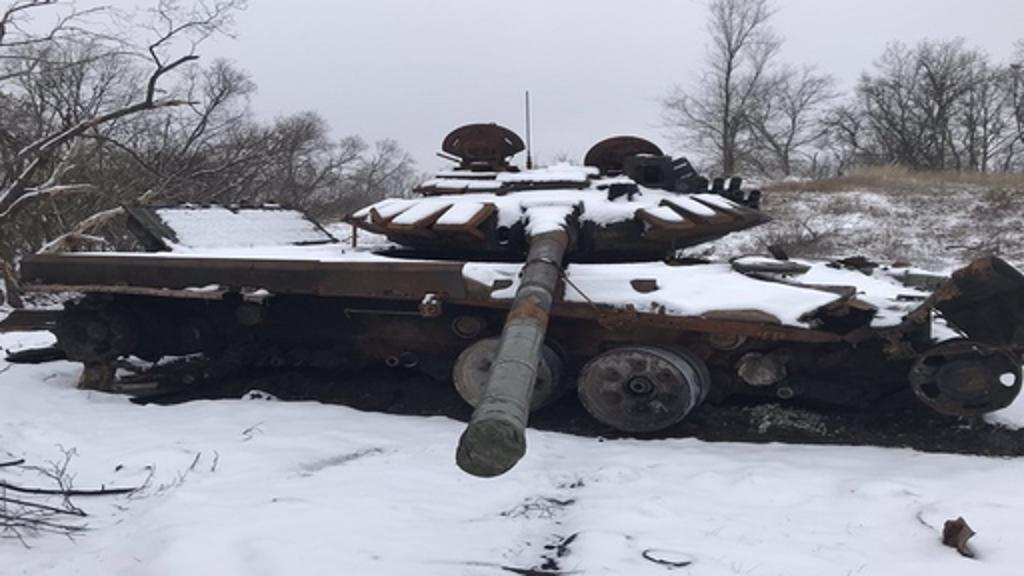TANK: (20, 106, 1020, 490)
